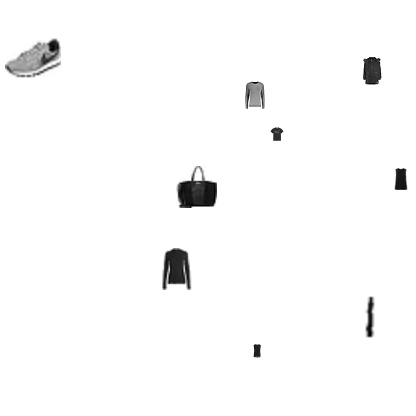1: (342, 289, 398, 345)
Bag: (175, 166, 217, 208)
Coat: (358, 57, 386, 85)
Pullover: (241, 81, 269, 109)
Shirt: (155, 248, 197, 290), (250, 344, 264, 358)
Sneaker: (5, 29, 61, 85)
T-shirt/top: (390, 168, 412, 190), (270, 127, 284, 141)
